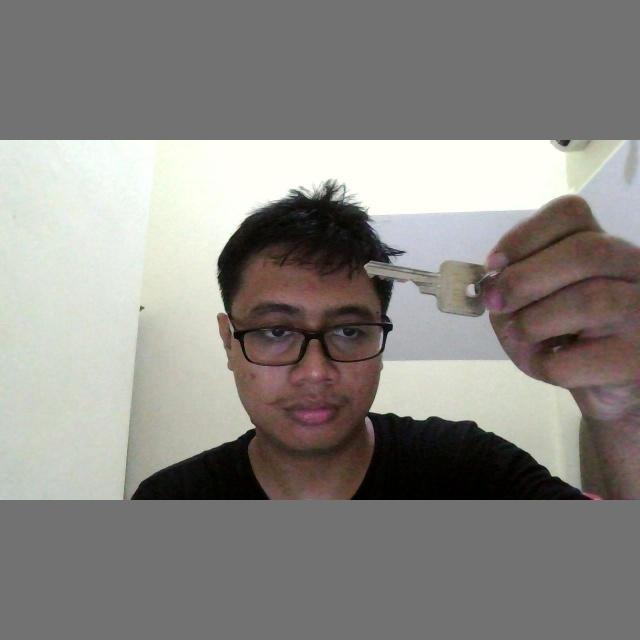Keys: (359, 251, 497, 325)
